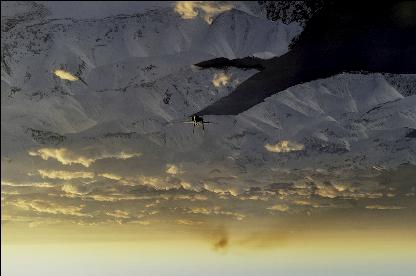Mig31: (178, 114, 218, 132)
